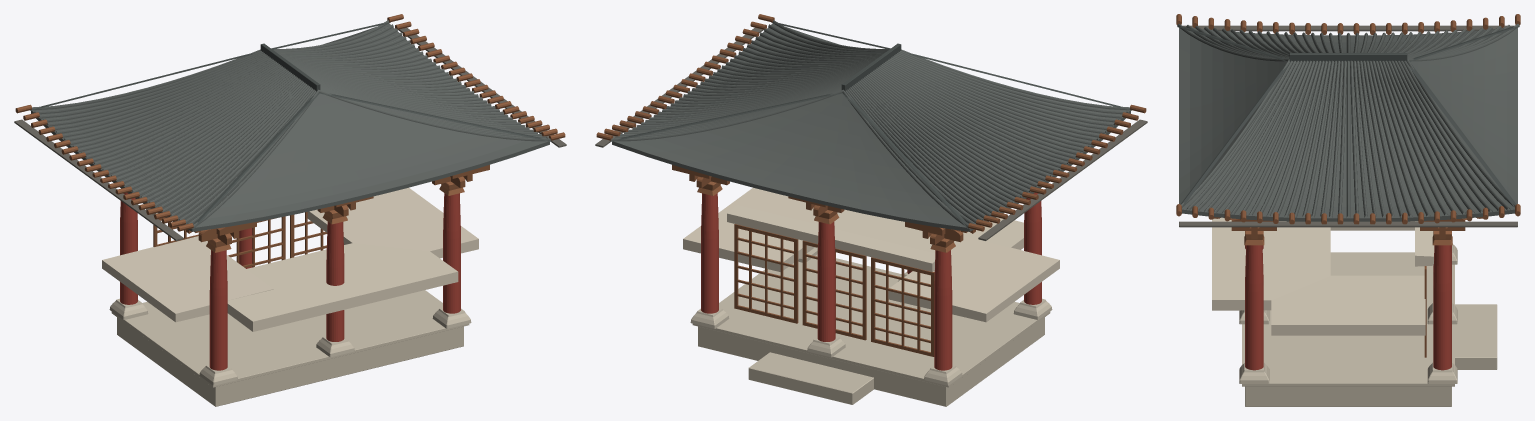
File: hall-shijing.glb
3 views of the same model, side by side, from view 1: azimuth 30°, elevation 25°; view 2: azimuth 150°, elevation 25°; view 3: azimuth 270°, elevation 25° (orthographic). The views are drawn at different scales.
Parts seen in each view (by area): view 1: hall_shijing; view 2: hall_shijing; view 3: hall_shijing.
Boxes of the visible parts, x1,y1,x2,y2 form: hall_shijing: [14, 14, 566, 406]; hall_shijing: [595, 14, 1147, 406]; hall_shijing: [1176, 14, 1520, 406].
Bounding box in the file's own units: 11.05 × 7.48 × 8.05.
